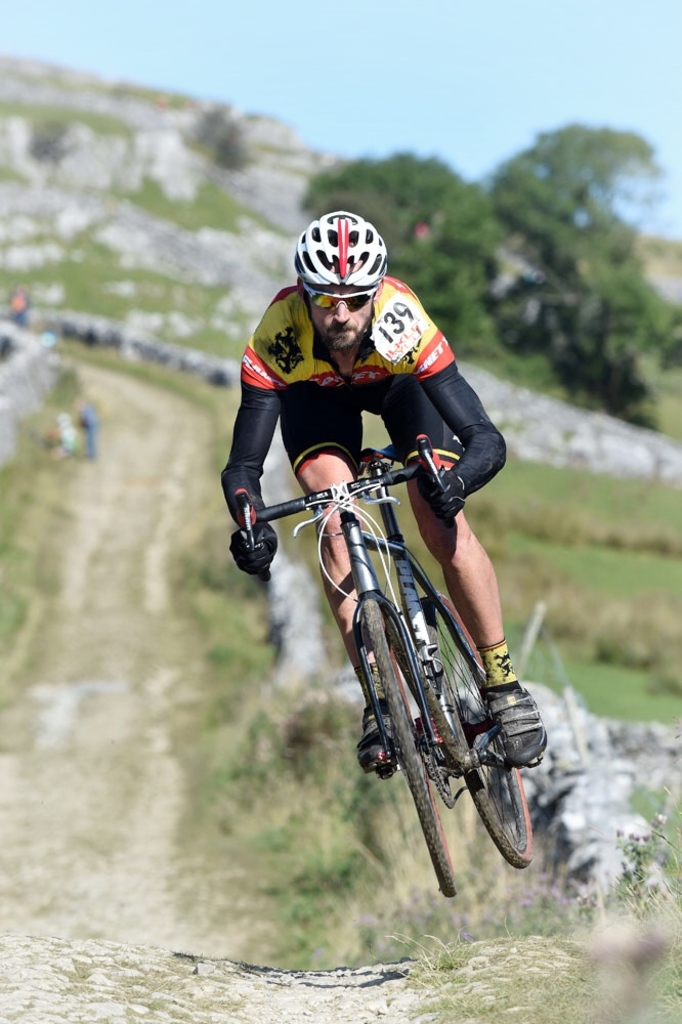Bike_toward: (235, 430, 546, 896)
